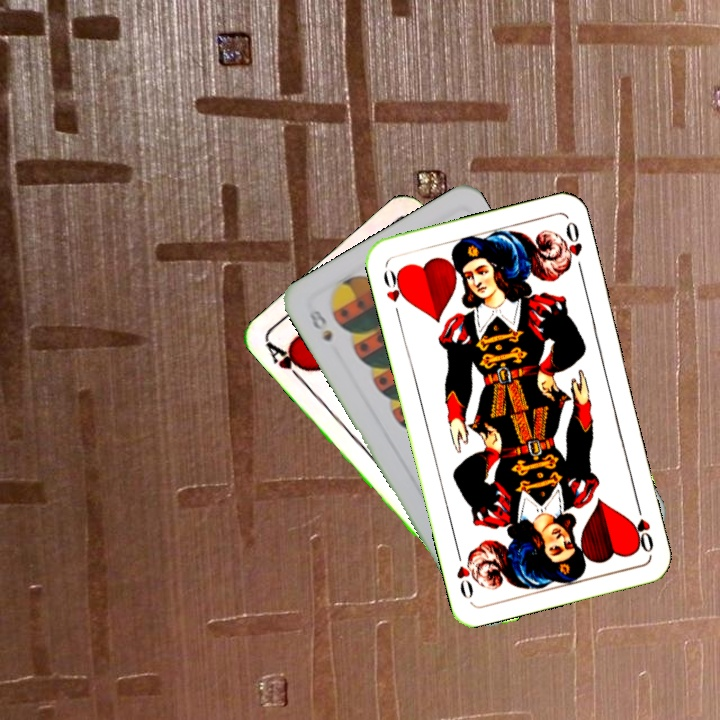HA: (262, 338, 311, 386)
HO: (628, 498, 657, 556), (379, 266, 409, 320)
S8: (305, 305, 336, 345)
